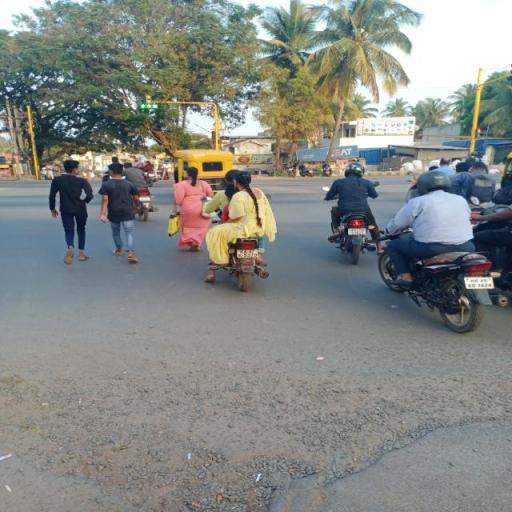bike: (199, 165, 288, 291)
numberplate: (237, 250, 260, 258)
withouthelmet: (234, 170, 252, 188), (226, 170, 234, 184)
